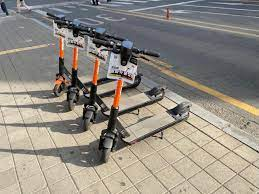kick_handler: (93, 37, 160, 58)
kick_neck: (55, 29, 68, 73), (71, 35, 80, 85)
kick_wheel: (100, 129, 114, 162), (81, 104, 96, 129), (176, 103, 189, 120), (67, 90, 78, 109), (53, 79, 66, 95), (152, 88, 165, 101)
